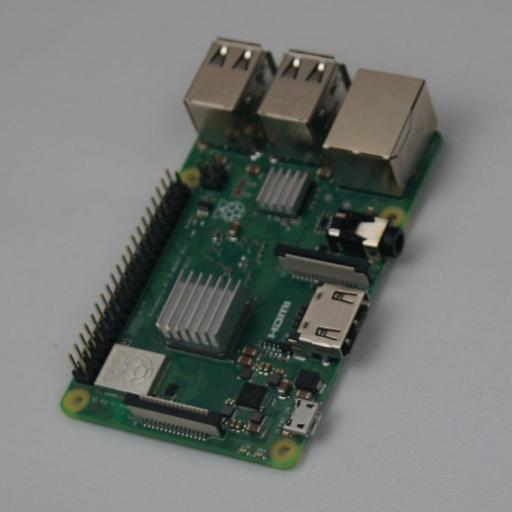Raspberry Pi 3 B-: (60, 38, 450, 470)
